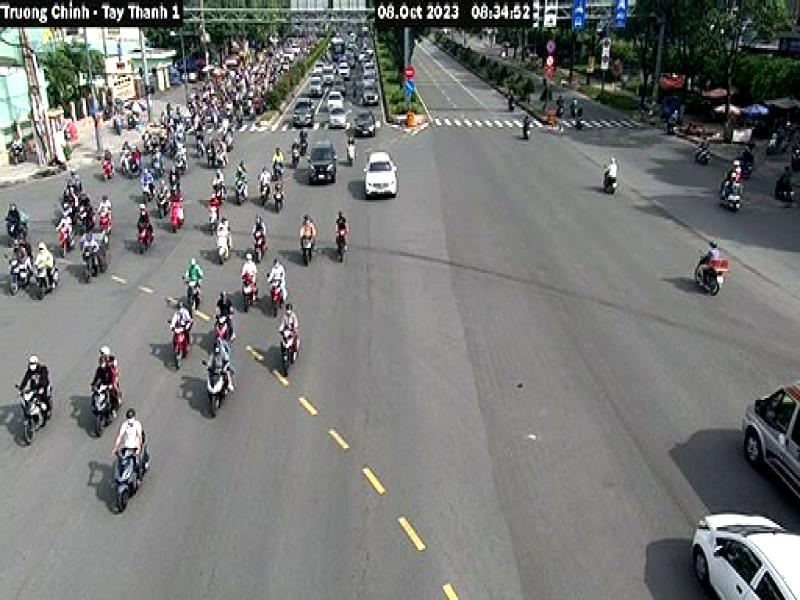car: (694, 514, 800, 600), (745, 387, 800, 507), (364, 148, 400, 204)
motorcycle: (17, 389, 50, 444), (112, 447, 138, 515), (203, 363, 226, 419), (90, 382, 113, 438), (278, 327, 298, 382), (170, 324, 190, 370)
